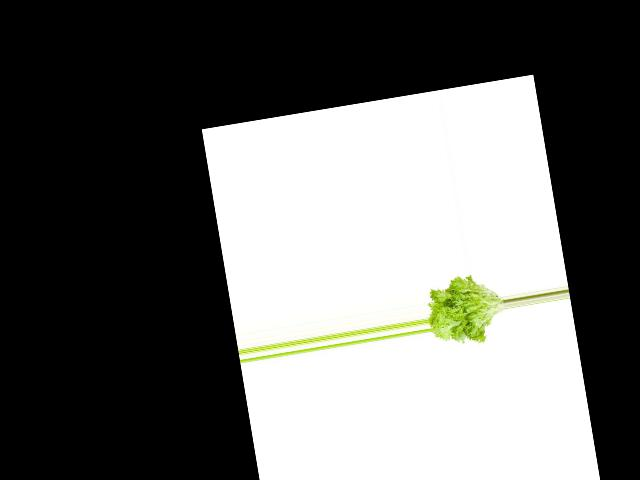lettuce: (422, 266, 511, 351)
